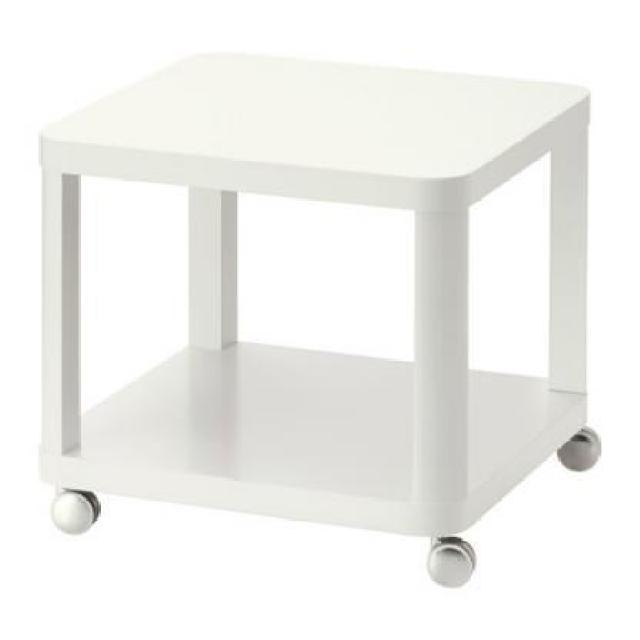tables: (36, 48, 602, 586)
